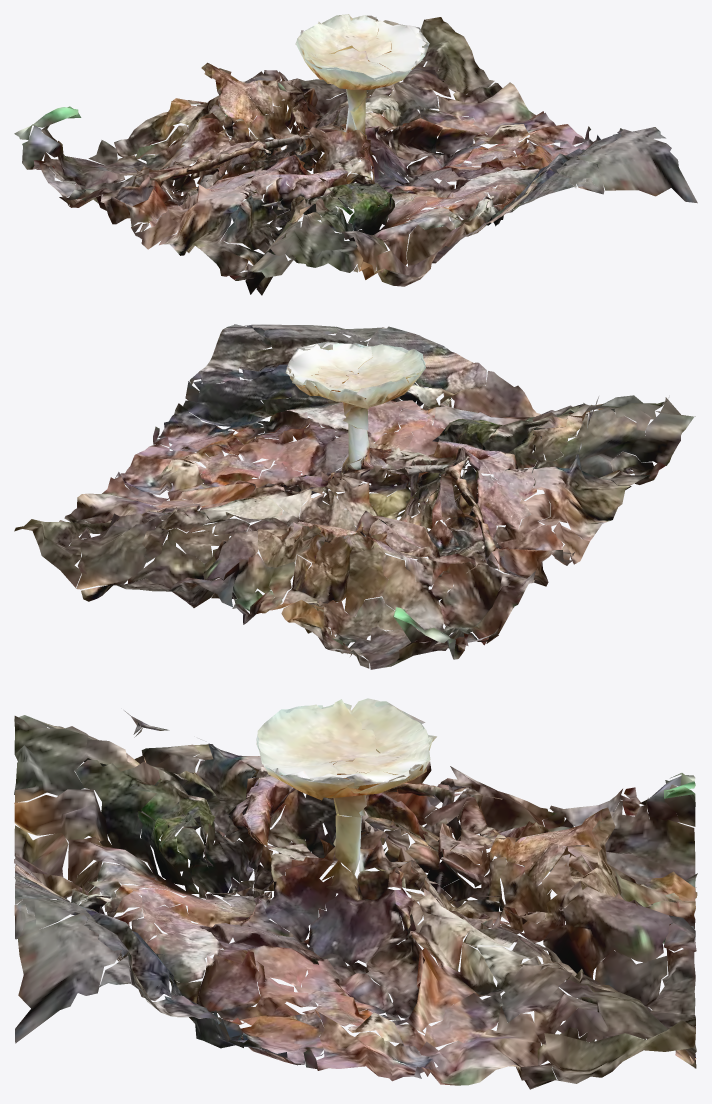
The model's file is veg_mushroom.glb.
3 views of the same model, one above another, from view 1: azimuth 30°, elevation 25°; view 2: azimuth 150°, elevation 25°; view 3: azimuth 270°, elevation 25° (orthographic). The views are drawn at different scales.
Parts seen in each view (by area): view 1: Object_2; view 2: Object_2; view 3: Object_2.
Boxes of the visible parts, <box> form: Object_2: <box>14,14,697,295</box>; Object_2: <box>14,324,695,669</box>; Object_2: <box>14,698,697,1089</box>.
Size of the model in its own units: 0.4962 by 0.2102 by 0.5024.
Materials: 1 (1 with a texture image).
